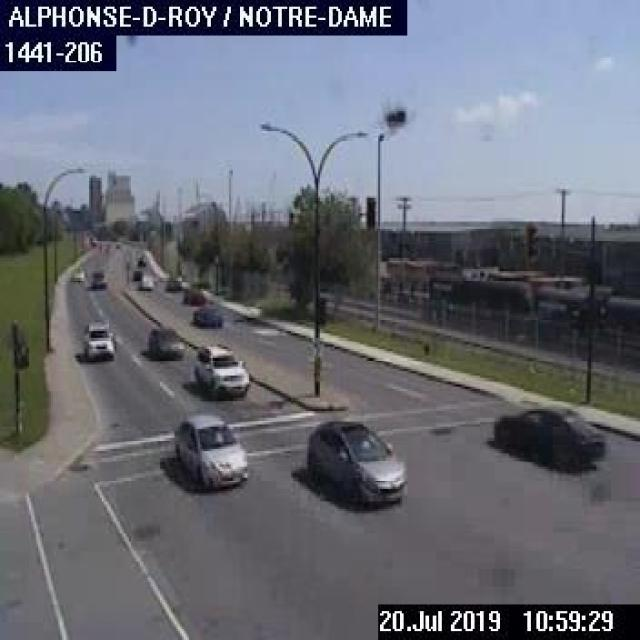vehicle: (302, 413, 409, 502), (489, 400, 606, 467), (171, 409, 247, 489), (190, 342, 250, 397), (145, 322, 187, 361), (80, 316, 115, 360), (191, 300, 222, 327), (163, 270, 190, 294), (181, 284, 205, 306), (136, 270, 154, 289), (67, 262, 85, 281), (85, 270, 104, 286), (128, 264, 143, 282)
